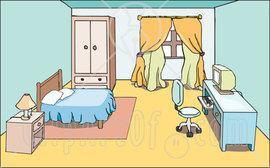chair: (168, 75, 202, 139)
tvmonitor: (209, 63, 236, 96)
